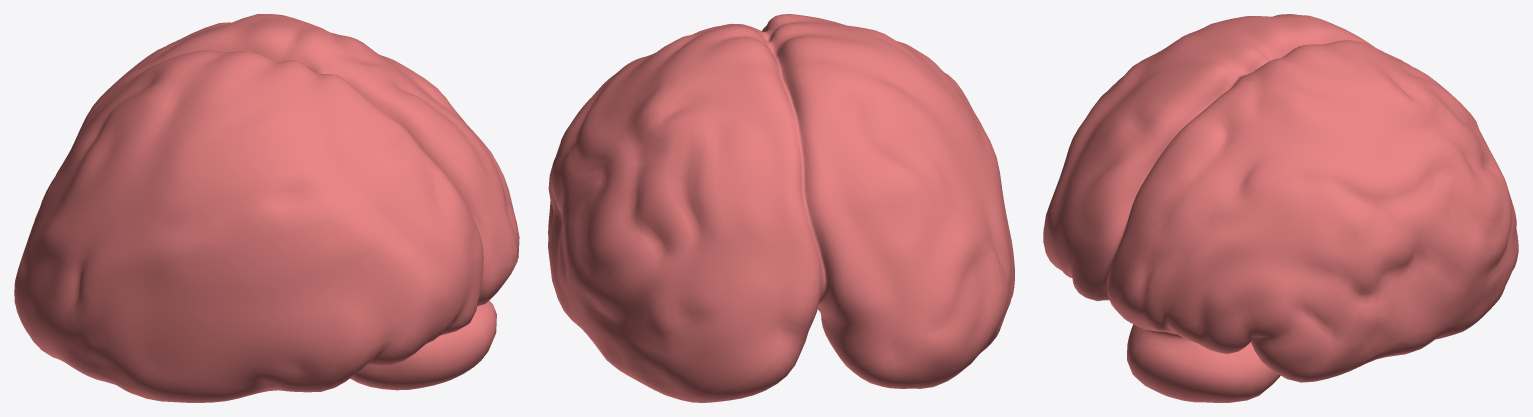
File: cerebro.glb
3 views of the same model, side by side, from view 1: azimuth 30°, elevation 25°; view 2: azimuth 150°, elevation 25°; view 3: azimuth 270°, elevation 25° (orthographic). The views are drawn at different scales.
Visible parts, largest first — view 1: Mesh0; view 2: Mesh0; view 3: Mesh0.
Part boxes in pixels (box(x1,y1,x2,y2)): Mesh0: box(14, 14, 519, 402); Mesh0: box(548, 14, 1014, 402); Mesh0: box(1043, 14, 1518, 402).
Size of the model in its own units: 198 by 138 by 199.
